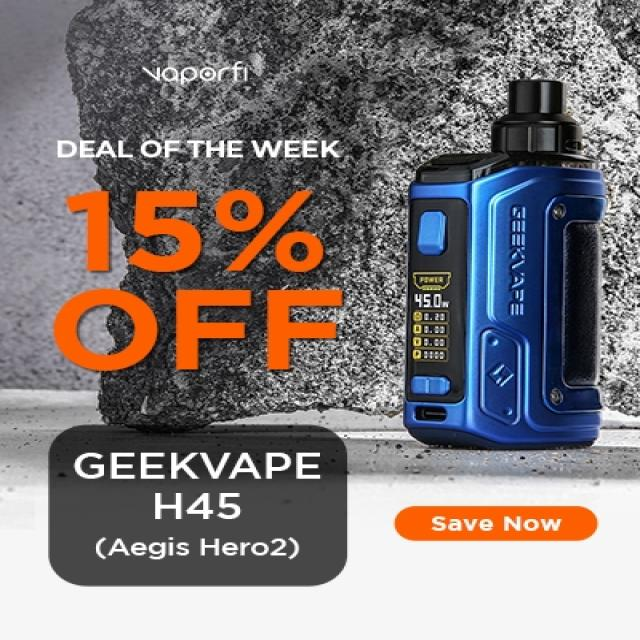Vapes: (400, 77, 608, 450)
